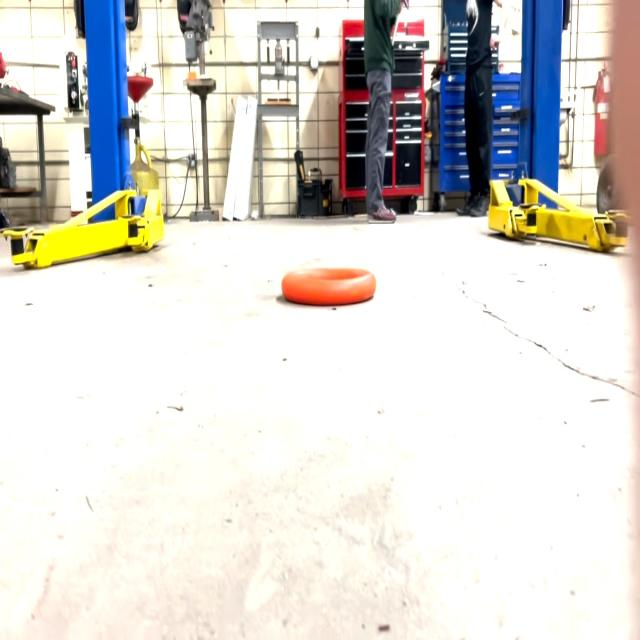note: (281, 259, 375, 309)
